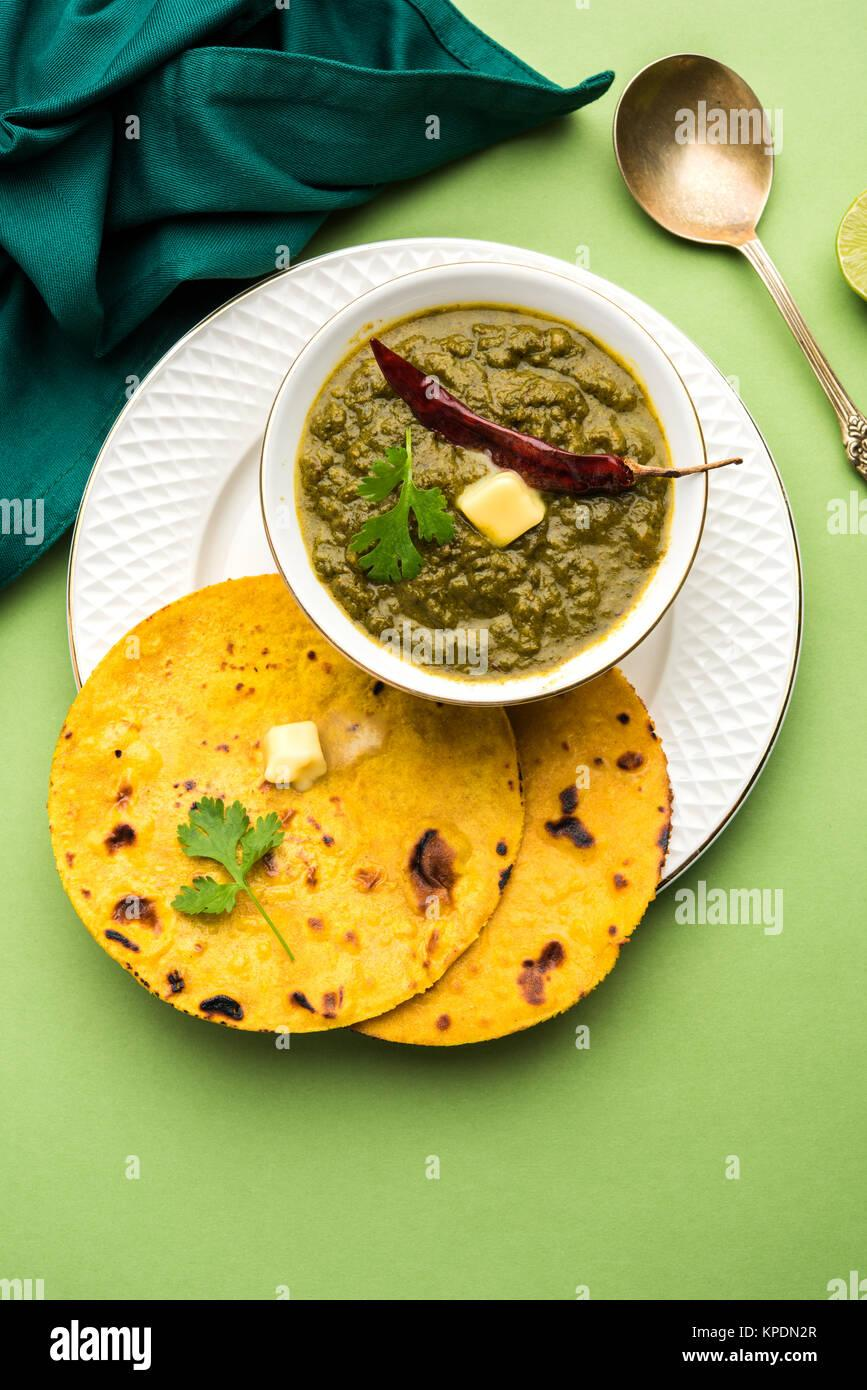saag: (295, 301, 668, 673)
